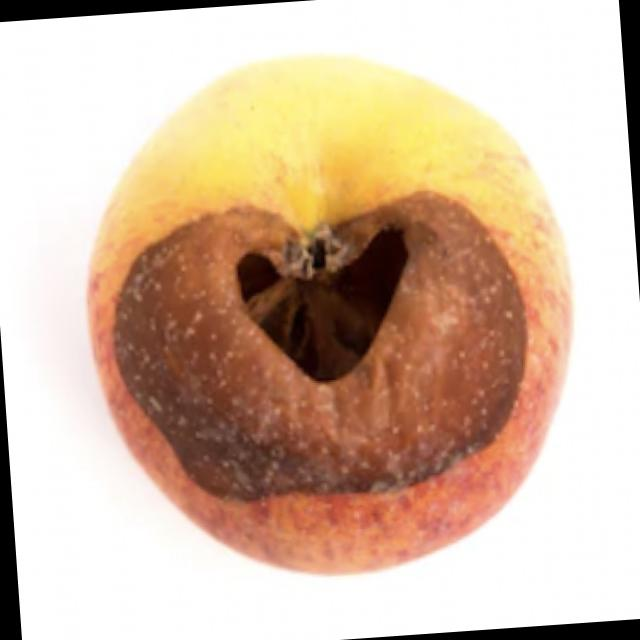rotten_apple: (61, 7, 590, 596)
